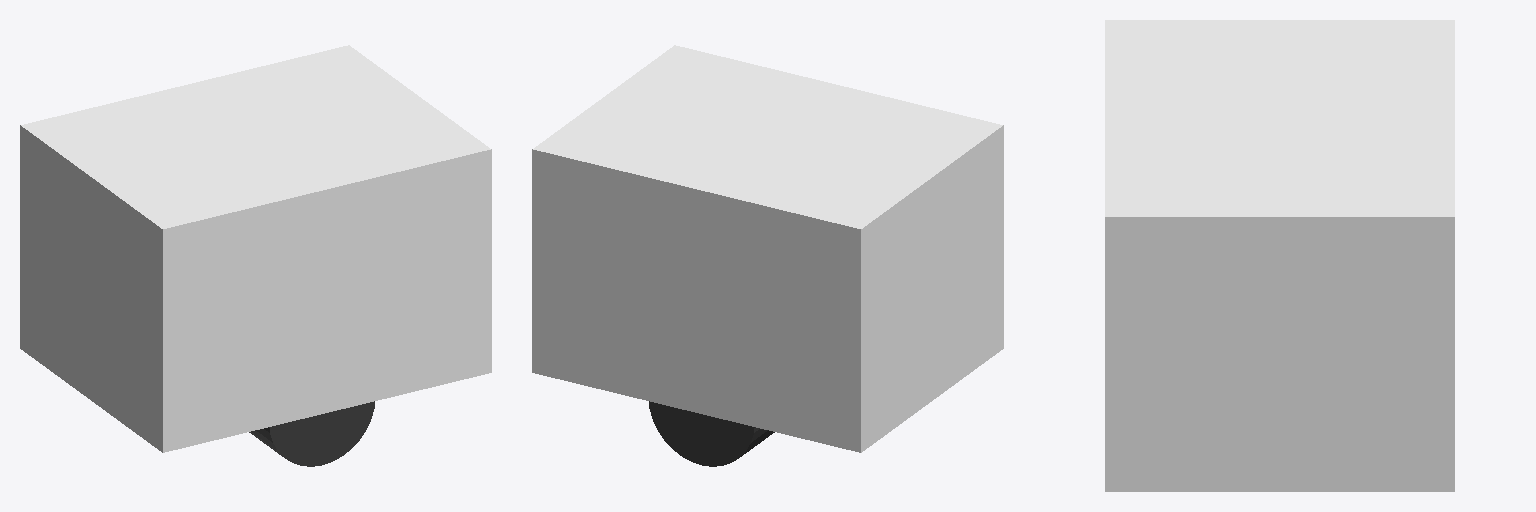
The robot description file, URDF, robot "storagy":
<?xml version="1.0" ?>
<robot name="storagy" xmlns:xacro="http://ros.org/wiki/xacro">
  <!-- <xacro:include filename="$(find storagy)/urdf/common_properties.urdf"/> -->

  <!-- Init colour -->
  <material name="black">
      <color rgba="0.0 0.0 0.0 1.0"/>
  </material>

  <material name="dark">
    <color rgba="0.3 0.3 0.3 1.0"/>
  </material>

  <material name="light_black">
    <color rgba="0.4 0.4 0.4 1.0"/>
  </material>

  <material name="blue">
    <color rgba="0.0 0.0 0.8 1.0"/>
  </material>

  <material name="green">
    <color rgba="0.0 0.8 0.0 1.0"/>
  </material>

  <material name="grey">
    <color rgba="0.5 0.5 0.5 1.0"/>
  </material>

  <material name="orange">
    <color rgba="1.0 0.4235 0.0392 1.0"/>
  </material>

  <material name="brown">
    <color rgba="0.8706 0.8118 0.7647 1.0"/>
  </material>

  <material name="red">
    <color rgba="0.8 0.0 0.0 1.0"/>
  </material>

  <material name="white">
    <color rgba="1.0 1.0 1.0 1.0"/>
  </material>

  <link name="base_footprint"/>

  <joint name="base_joint" type="fixed">
    <parent link="base_footprint"/>
    <child link="base_link" />
    <origin xyz="0 0 0.065" rpy="0 0 0"/>
  </joint>

  <link name="base_link">
    <visual>
      <origin xyz="0.0 0 0.13" rpy="0 0 0"/>
      <geometry>
        <!-- <mesh filename="package://storagy/meshes/bases/Main.stl" scale="0.01 0.01 0.01"/> -->
        <box size="0.4 0.3 0.26"/>
      </geometry>
      <material name="white"/>
    </visual>

    <collision>
      <origin xyz="-0.064 0 0.047" rpy="0 0 0"/>
      <geometry>
        <box size="0.266 0.266 0.094"/>
      </geometry>
    </collision>

    <inertial>
      <origin xyz="0 0 0" rpy="0 0 0"/>
      <mass value="1.3729096e+00"/>
      <inertia ixx="8.7002718e-03" ixy="-4.7576583e-05" ixz="1.1160499e-04"
               iyy="8.6195418e-03" iyz="-3.5422299e-06"
               izz="1.4612727e-02" />
    </inertial>
  </link>

  <joint name="wheel_front_left_joint" type="fixed">
    <parent link="base_link"/>
    <child link="wheel_front_left_link"/>
    <origin xyz="0.0 0.1 0.0" rpy="0 0 0"/>
    <axis xyz="0 1 0"/>
  </joint>

  <link name="wheel_front_left_link">
    <visual>
      <origin xyz="0 0 0" rpy="-1.57 0 0.0"/>
      <geometry>
        <!-- <mesh filename="package://storagy/meshes/wheels/Front_left_wheel.stl" scale="0.01 0.01 0.01"/> -->
        <cylinder length="0.08" radius="0.065"/>
      </geometry>
      <material name="dark"/>
    </visual>

    <collision>
      <origin xyz="0 0 0" rpy="0 0 0"/>
      <geometry>
        <cylinder length="0.018" radius="0.033"/>
      </geometry>
    </collision>

    <inertial>
      <origin xyz="0 0 0" />
      <mass value="2.8498940e-02" />
      <inertia ixx="1.1175580e-05" ixy="-4.2369783e-11" ixz="-5.9381719e-09"
               iyy="1.1192413e-05" iyz="-1.4400107e-11"
               izz="2.0712558e-05" />
      </inertial>
  </link>

  <joint name="wheel_front_right_joint" type="fixed">
    <parent link="base_link"/>
    <child link="wheel_front_right_link"/>
    <origin xyz="0.0 -0.1 0.0" rpy="0 0 0"/>
    <axis xyz="0 1 0"/>
  </joint>

  <link name="wheel_front_right_link">
    <visual>
      <origin xyz="0 0 0" rpy="-1.57 0 0"/>
      <geometry>
        <!-- <mesh filename="package://storagy/meshes/wheels/Front_right_wheel.stl" scale="0.01 0.01 0.01"/> -->
        <cylinder length="0.08" radius="0.065"/>
      </geometry>
      <material name="dark"/>
    </visual>

    <collision>
      <origin xyz="0 0 0" rpy="0 0 0"/>
      <geometry>
        <cylinder length="0.018" radius="0.033"/>
      </geometry>
    </collision>

    <inertial>
      <origin xyz="0 0 0" />
      <mass value="2.8498940e-02" />
      <inertia ixx="1.1175580e-05" ixy="-4.2369783e-11" ixz="-5.9381719e-09"
               iyy="1.1192413e-05" iyz="-1.4400107e-11"
               izz="2.0712558e-05" />
      </inertial>
  </link>

  <joint name="imu_joint" type="fixed">
    <parent link="base_link"/>
    <child link="imu_link"/>
    <origin xyz="0.0 0 0.068" rpy="0 0 0"/>
  </joint>

  <link name="imu_link"/>

  <joint name="front_scan_joint" type="fixed">
    <parent link="base_link"/>
    <child link="front_base_scan"/>
    <origin xyz="0.1525 0.0 0.062" rpy="3.142857143 0 0"/>
  </joint>

  <link name="front_base_scan">
    <visual>
      <origin xyz="0 0 0.0" rpy="0 0 0"/>
      <geometry>
        <mesh filename="package://storagy/meshes/sensors/lidar.stl" scale="0.01 0.01 0.01"/>
      </geometry>
      <material name="dark"/>
    </visual>

    <collision>
      <origin xyz="0.015 0 -0.0065" rpy="0 0 0"/>
      <geometry>
        <cylinder length="0.0315" radius="0.055"/>
      </geometry>
    </collision>

    <inertial>
      <mass value="0.114" />
      <origin xyz="0 0 0" />
      <inertia ixx="0.001" ixy="0.0" ixz="0.0"
               iyy="0.001" iyz="0.0"
               izz="0.001" />
    </inertial>
  </link>

  <joint name="camera_joint" type="fixed">
    <origin xyz="0.198 0.0 0.2295" rpy="0 0 0"/>
    <parent link="base_link"/>
    <child link="camera_link"/>
  </joint>

  <link name="camera_link">
    <visual>
      <origin xyz="0.0 0.0 0.0" rpy="0 0 0"/>
      <geometry>
        <mesh filename="package://storagy/meshes/sensors/camera.stl" scale="0.01 0.01 0.01"/>
      </geometry>
      <material name="light_black"/>
    </visual>
    <collision>
      <origin xyz="0.0 0.0 0.0" rpy="0 0 0"/>
      <geometry>
        <mesh filename="package://storagy/meshes/sensors/camera.stl" scale="0.01 0.01 0.01"/>
      </geometry>
    </collision>
  </link>

  <joint name="camera_rgb_joint" type="fixed">
    <!-- <origin xyz="0.003 0.011 0.009" rpy="3.14 0 0"/> -->
    <origin xyz="0 0 0" rpy="0 0 0"/>
    <parent link="camera_link"/>
    <child link="camera_rgb_frame"/>
  </joint>
  <link name="camera_rgb_frame"/>

  <joint name="camera_rgb_optical_joint" type="fixed">
    <origin xyz="0 0 0" rpy="-1.57 0 -1.57"/>
    <parent link="camera_rgb_frame"/>
    <child link="camera_color_optical_frame"/>
  </joint>
  <link name="camera_color_optical_frame"/>

</robot>

--- What the picture shows (computed from the rendered views, not written in the file) ---
3 views of the same robot in one strip: view 1: azimuth 30°, elevation 25°; view 2: azimuth 150°, elevation 25°; view 3: azimuth 270°, elevation 25° (orthographic).
Robot: storagy — 9 links, 8 joints (8 fixed); root link base_footprint; default pose: all joints at 0.
Links seen in each view (by area): view 1: base_link, wheel_front_right_link; view 2: base_link, wheel_front_left_link; view 3: base_link.
Link boxes in pixels (x1,y1,x2,y2): base_link: (20, 45, 491, 452); wheel_front_right_link: (249, 401, 374, 466); base_link: (532, 45, 1003, 452); wheel_front_left_link: (649, 401, 774, 466); base_link: (1105, 20, 1454, 491).
Bounding box of the posed robot: 0.4 × 0.3 × 0.325 m (x, y, z).
0 mesh visuals loaded from 2 distinct referenced files (none loaded); not drawn: 2 (reference not matched to a file when rendering).